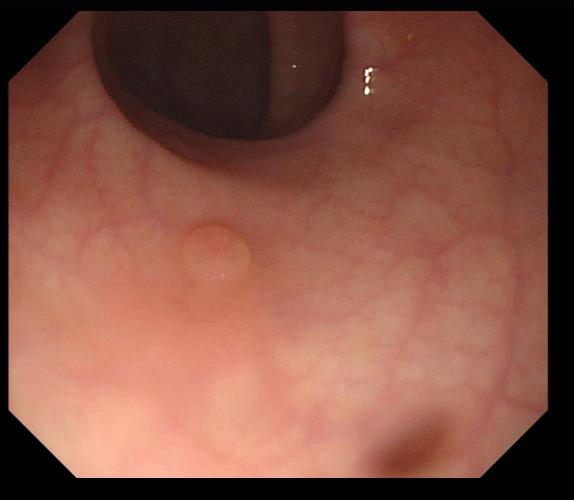polyp: (181, 221, 260, 288)
